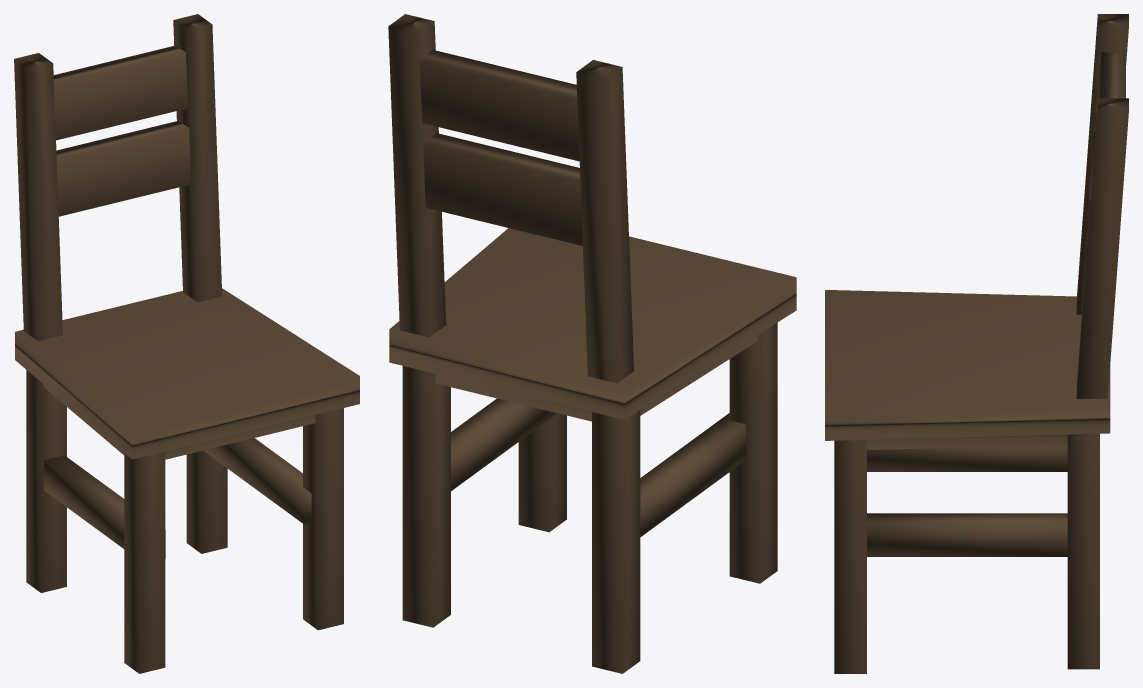
The model's file is Chair_Everything_V1.fbx.
3 renders of one model, left to right at view 1: azimuth 30°, elevation 25°; view 2: azimuth 150°, elevation 25°; view 3: azimuth 270°, elevation 25°, orthographic. The views are drawn at different scales.
Parts seen in each view (by area): view 1: Cube.003, Cube.007, Cube.006, Cube.004, Cube.008, Cube.009, Cube.010, Cube.005; view 2: Cube.003, Cube.007, Cube.004, Cube.006, Cube.008, Cube.009, Cube.010, Cube.005; view 3: Cube.003, Cube.010, Cube.007, Cube.004, Cube.006, Cube.005, Cube.009.
Part boxes in pixels (box(x1,y1,x2,y2)): Cube.003: box(15, 288, 359, 459); Cube.007: box(14, 14, 222, 341); Cube.006: box(124, 408, 343, 673); Cube.004: box(26, 370, 227, 592); Cube.008: box(56, 121, 190, 216); Cube.009: box(53, 45, 188, 140); Cube.010: box(44, 438, 311, 558); Cube.005: box(43, 385, 315, 459); Cube.003: box(389, 228, 796, 419); Cube.007: box(388, 14, 633, 383); Cube.004: box(402, 366, 640, 673); Cube.006: box(518, 322, 777, 583); Cube.008: box(423, 133, 582, 245); Cube.009: box(419, 49, 579, 161); Cube.010: box(451, 398, 746, 536); Cube.005: box(435, 335, 758, 421); Cube.003: box(825, 290, 1110, 440); Cube.010: box(867, 445, 1067, 556); Cube.007: box(1076, 14, 1128, 398); Cube.004: box(1067, 433, 1099, 669); Cube.006: box(834, 440, 866, 673); Cube.005: box(867, 434, 1067, 449); Cube.009: box(1096, 52, 1125, 115).
Size of the model in its own units: 59.88 by 129 by 63.75.
